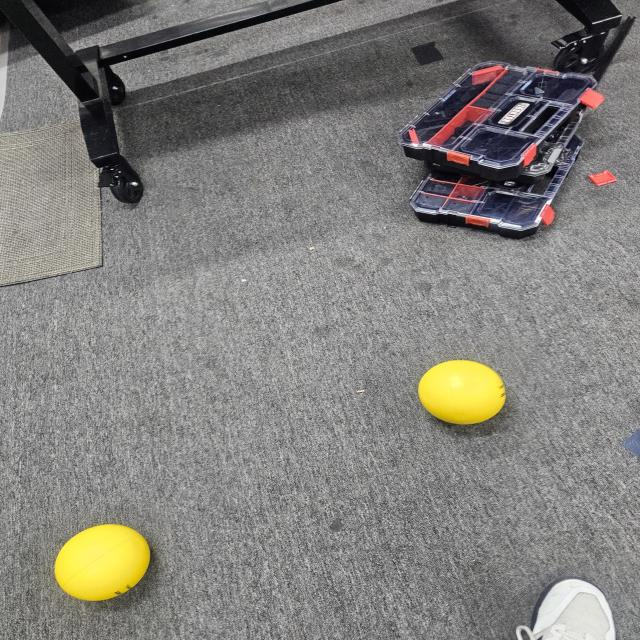Fuel: (48, 522, 160, 606), (412, 356, 516, 434)
